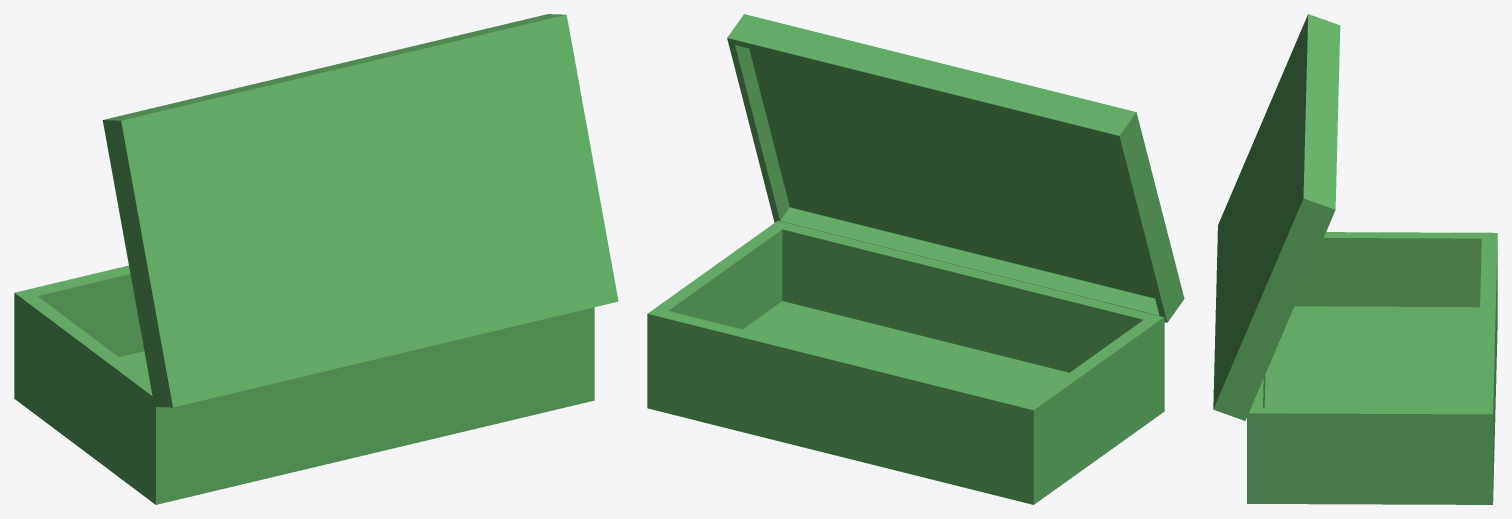
File: Lockbox_open.FBX
3 views of the same model, side by side, from view 1: azimuth 30°, elevation 25°; view 2: azimuth 150°, elevation 25°; view 3: azimuth 270°, elevation 25° (orthographic). The views are drawn at different scales.
Visible parts, largest first — view 1: Box; view 2: Box; view 3: Box.
Boxes of the visible parts, left/top/right/bottom form: Box: left=14, top=14, right=618, bottom=504; Box: left=647, top=14, right=1184, bottom=504; Box: left=1213, top=14, right=1497, bottom=504.
Size of the model in its own units: 13.07 by 10.13 by 8.49.
Materials: 1 (1 with a texture image).
